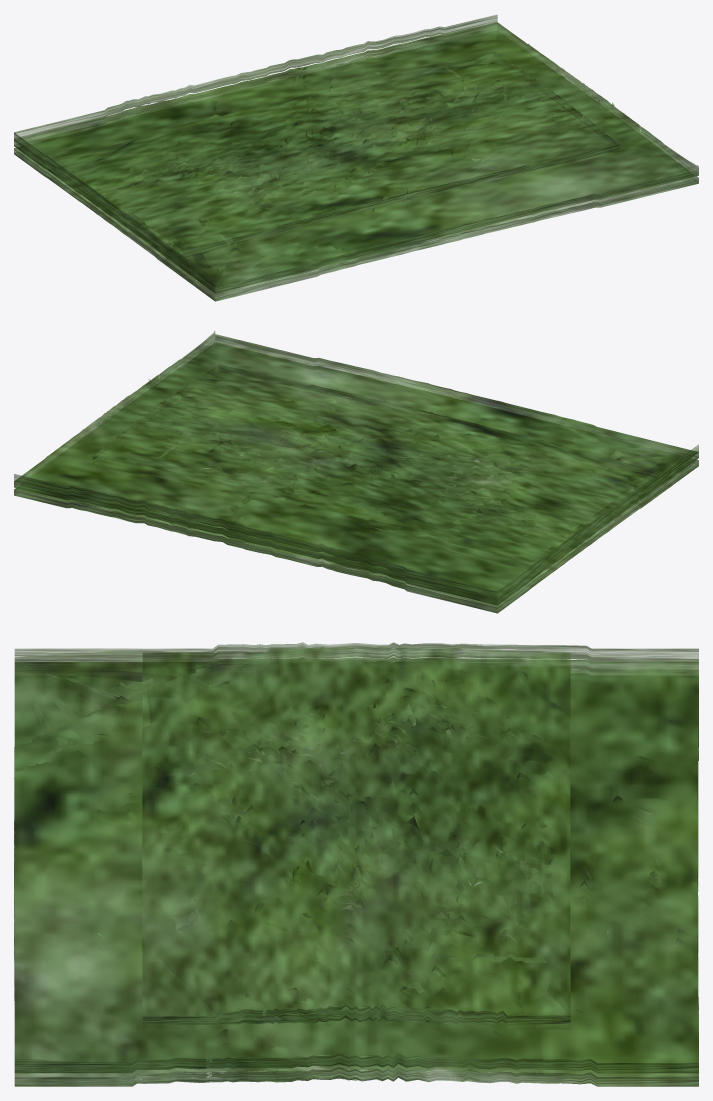
The model's file is Algae.glb.
3 renders of one model, top to bottom at view 1: azimuth 30°, elevation 25°; view 2: azimuth 150°, elevation 25°; view 3: azimuth 270°, elevation 25°, orthographic. The views are drawn at different scales.
Visible parts, largest first — view 1: Algae; view 2: Algae; view 3: Algae.
Boxes of the visible parts, <box> form: Algae: <box>14,14,698,301</box>; Algae: <box>14,331,698,613</box>; Algae: <box>14,642,698,1086</box>.
Bounding box in the file's own units: 85.83 × 5.8 × 61.81.
Materials: 1 (1 with a texture image).
